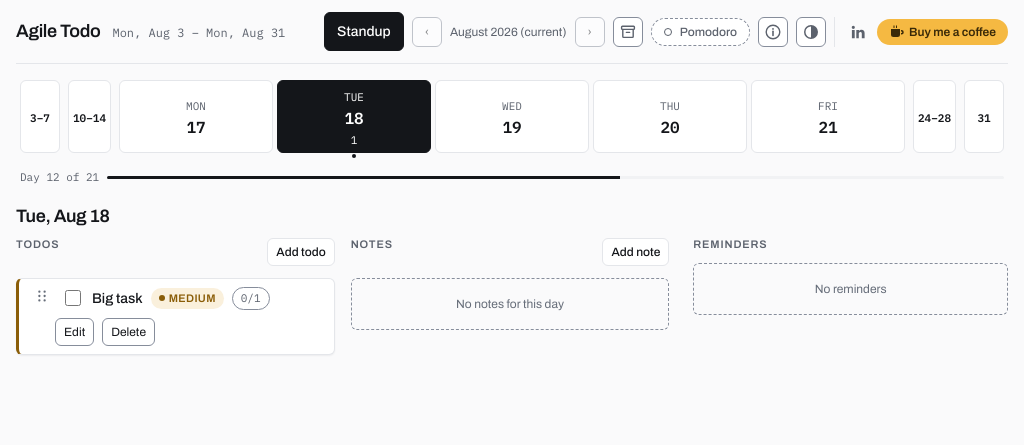
todo checklists › removes an item inline; removing the final item brings the Add checklist door back
The width and height of the screenshot is (1024, 445).
Click the button named "0/1 checklist items done". click: (251, 298)
box: [232,287,270,310]
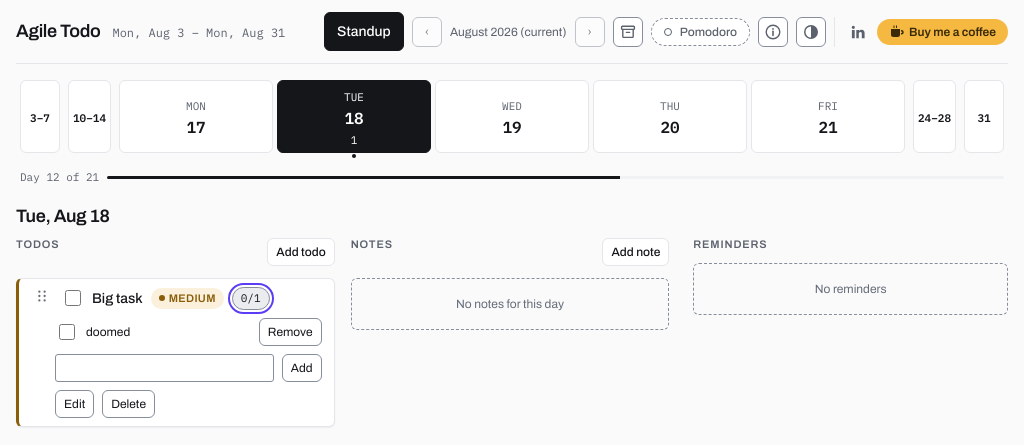
Click the button with aria-label "Remove doomed". click: (290, 332)
box: [259,318,322,346]
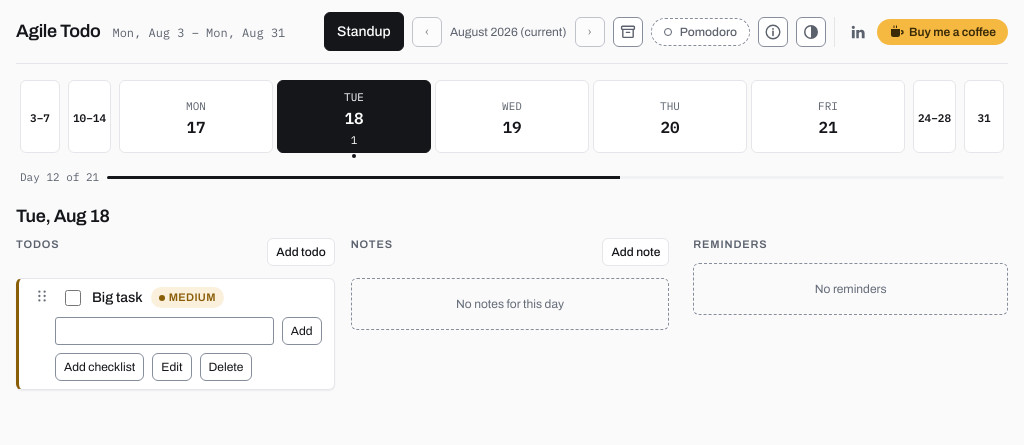
Now the text "doomed" is gone
Now the button with aria-label "Add checklist to todo: Big task" is shown, box [55,353,144,381]
